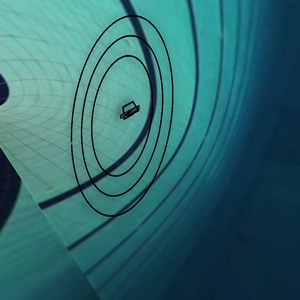circle: (53, 6, 209, 241)
submarine: (113, 96, 144, 128)
